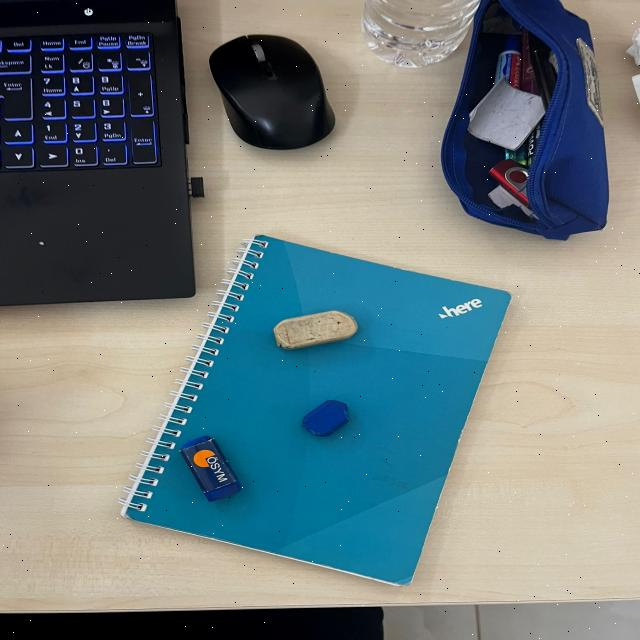eraser: (168, 432, 249, 505), (258, 301, 374, 350), (289, 392, 369, 446)
